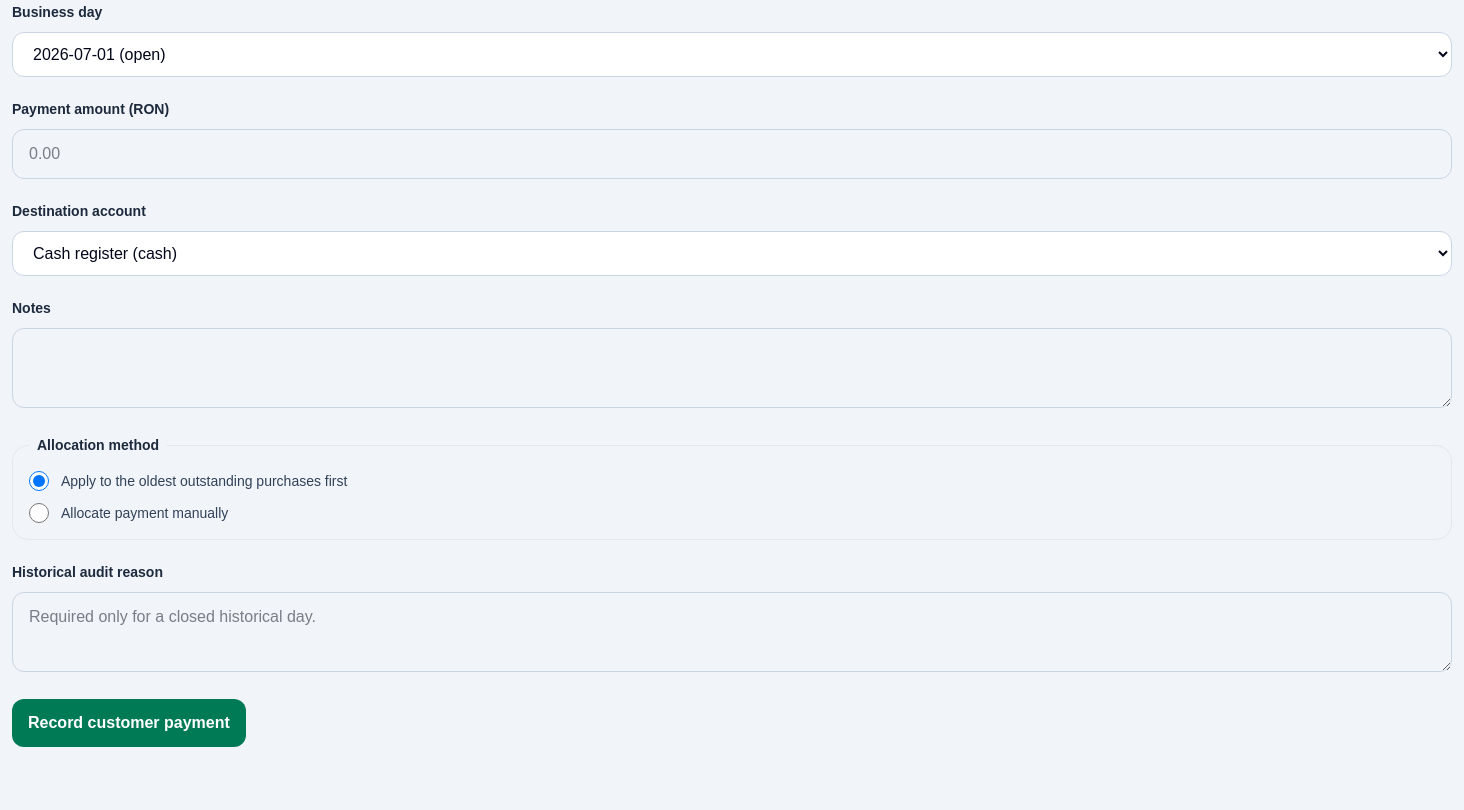
Scenario: customer payment forms › lets an administrator enter manual purchase allocations
Step 1. Click the radio button labelled "Allocate payment manually" → (39, 513), box [29, 503, 49, 523]
(page scrolled)
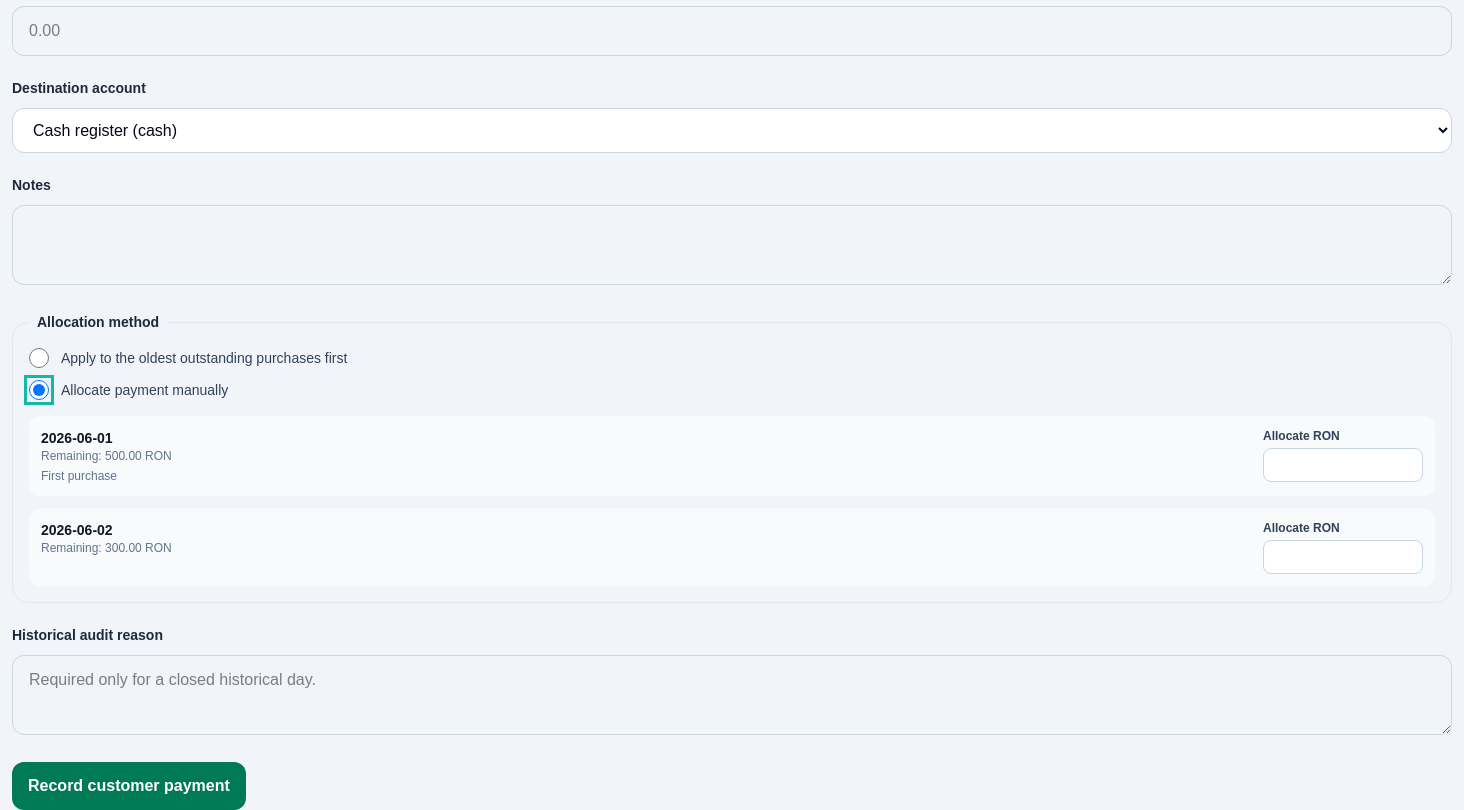
Expected: the text box labelled "Historical audit reason" is shown, [12, 655, 1452, 735]
Expected: the field named "Allocate to purchase from 2026-06-01" is shown, [1263, 448, 1423, 482]
